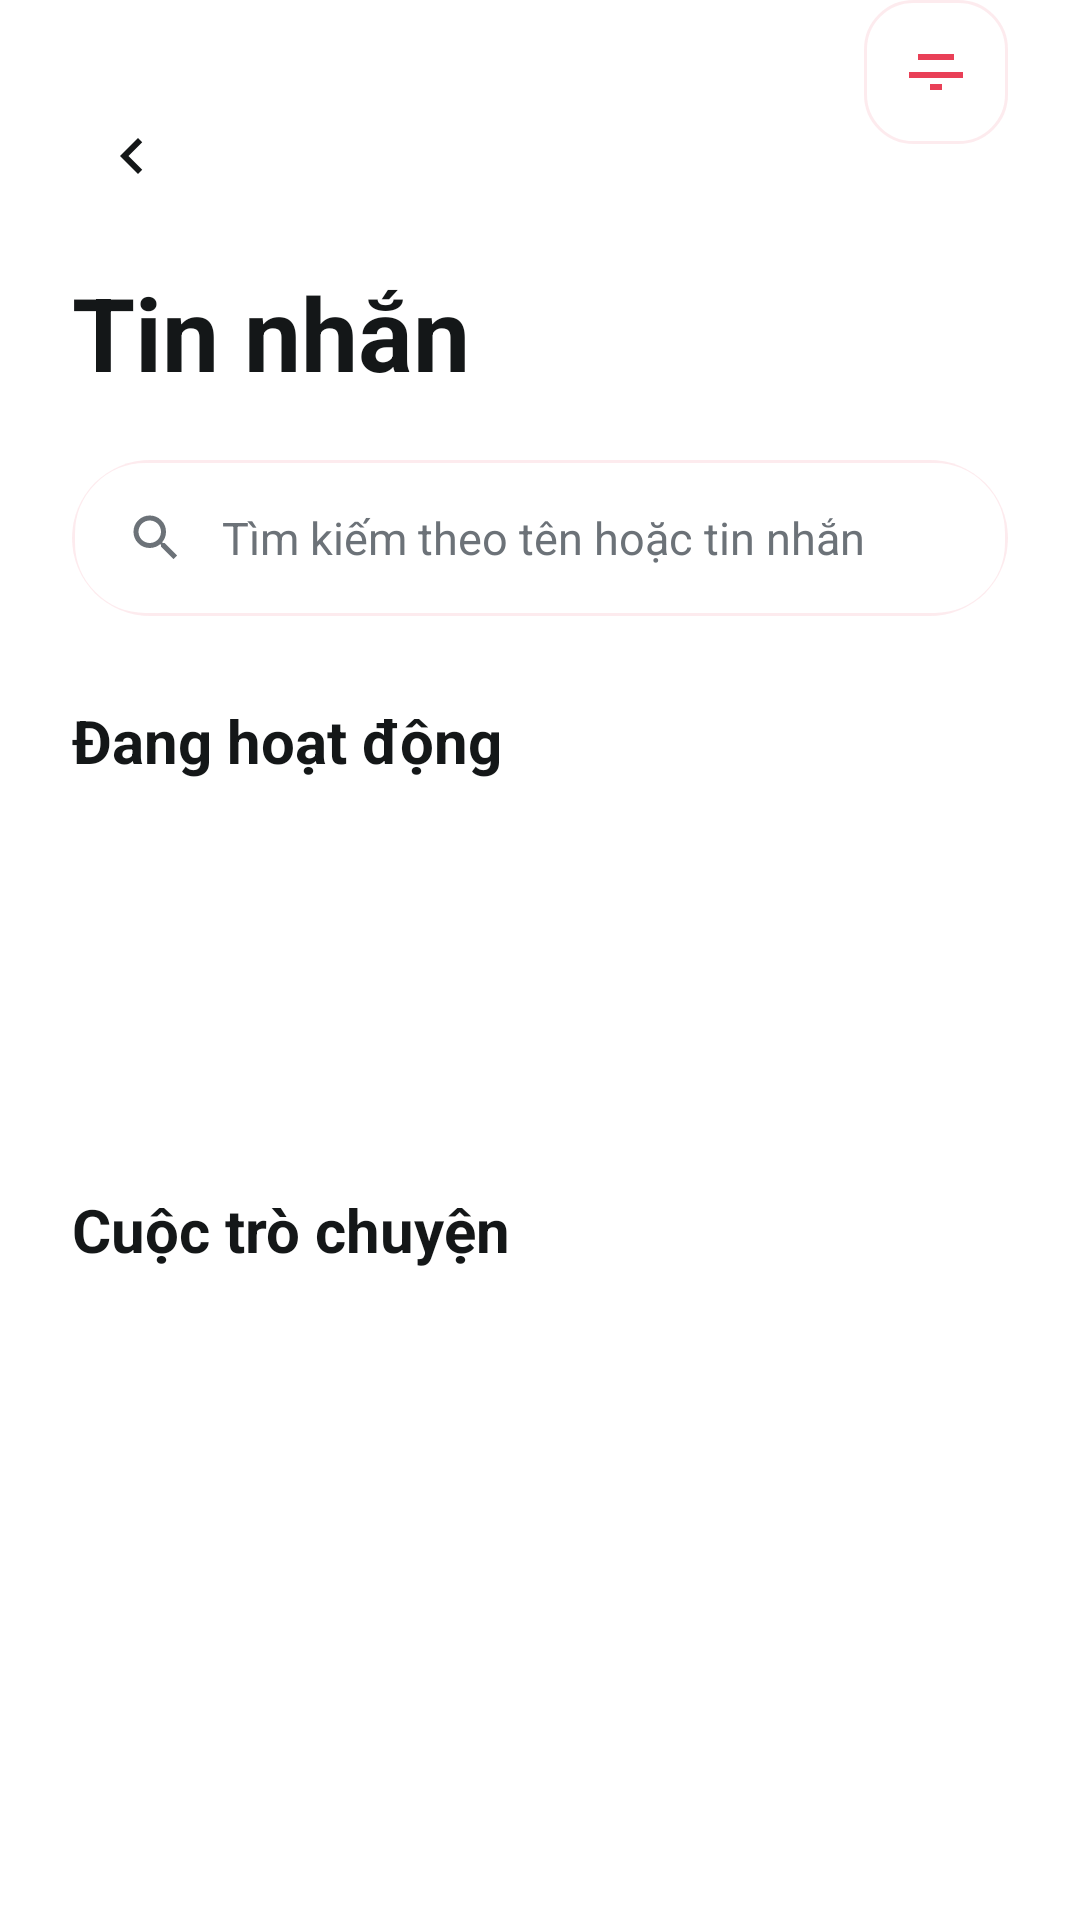

Icon bounding boxes for this 1080*1920 phone screenshot, format (left=x1, top=y1, right=x2, bottom=y2):
Quay lại: (left=120, top=138, right=142, bottom=174)
Tìm kiếm cuộc trò chuyện: (left=133, top=515, right=177, bottom=559)
